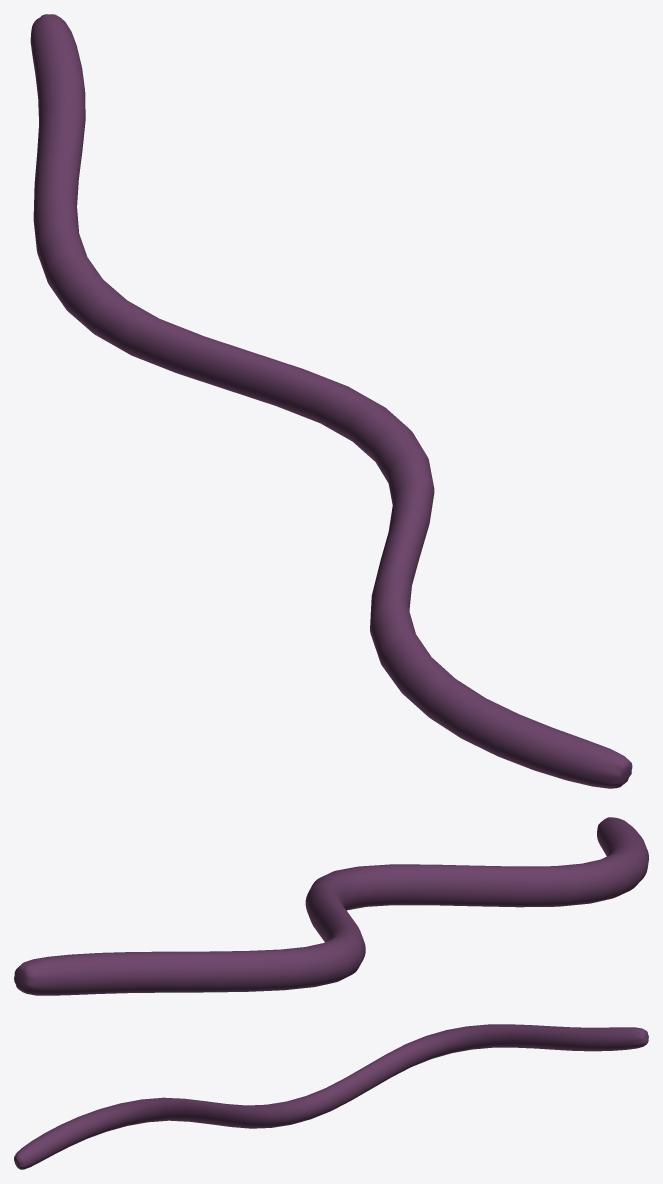
File: frame_18.obj
3 renders of one model, top to bottom at view 1: azimuth 30°, elevation 25°; view 2: azimuth 150°, elevation 25°; view 3: azimuth 270°, elevation 25°, orthographic. The views are drawn at different scales.
Parts seen in each view (by area): view 1: worm2; view 2: worm2; view 3: worm2.
Boxes of the visible parts, left/top/right/bottom form: worm2: left=30, top=14, right=632, bottom=788; worm2: left=14, top=817, right=648, bottom=995; worm2: left=14, top=1024, right=648, bottom=1169.
Size of the model in its own units: 300 by 454 by 1708.
